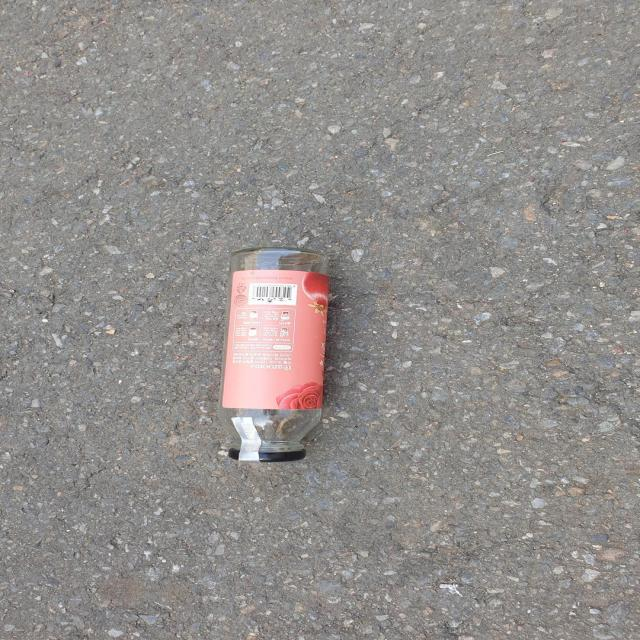glass: (218, 248, 328, 462)
